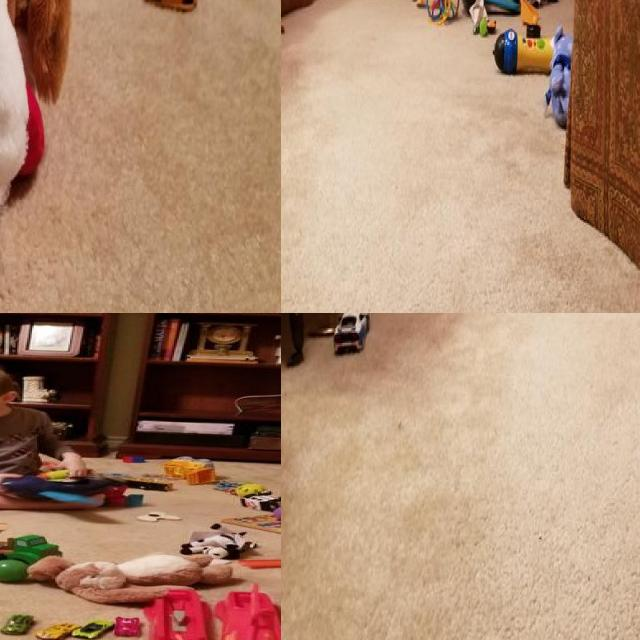toy: (46, 546, 222, 596), (546, 11, 584, 125), (490, 27, 577, 72), (181, 528, 262, 562), (335, 313, 374, 360), (162, 458, 215, 486), (429, 0, 458, 30), (473, 6, 497, 40), (233, 492, 281, 508), (0, 558, 30, 581), (40, 619, 71, 640), (134, 509, 177, 524), (74, 618, 106, 638), (3, 612, 28, 636), (519, 0, 540, 28), (485, 0, 521, 16), (116, 616, 140, 638), (237, 482, 266, 498), (459, 0, 485, 17), (410, 0, 433, 12), (281, 18, 286, 37)
